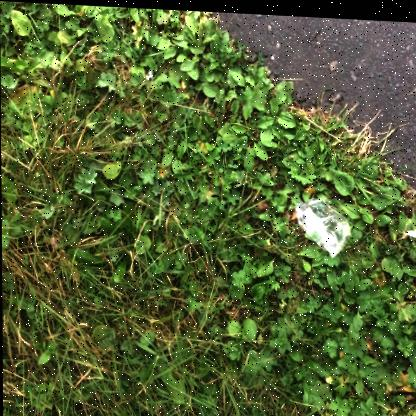Plastic: (293, 194, 351, 254)
